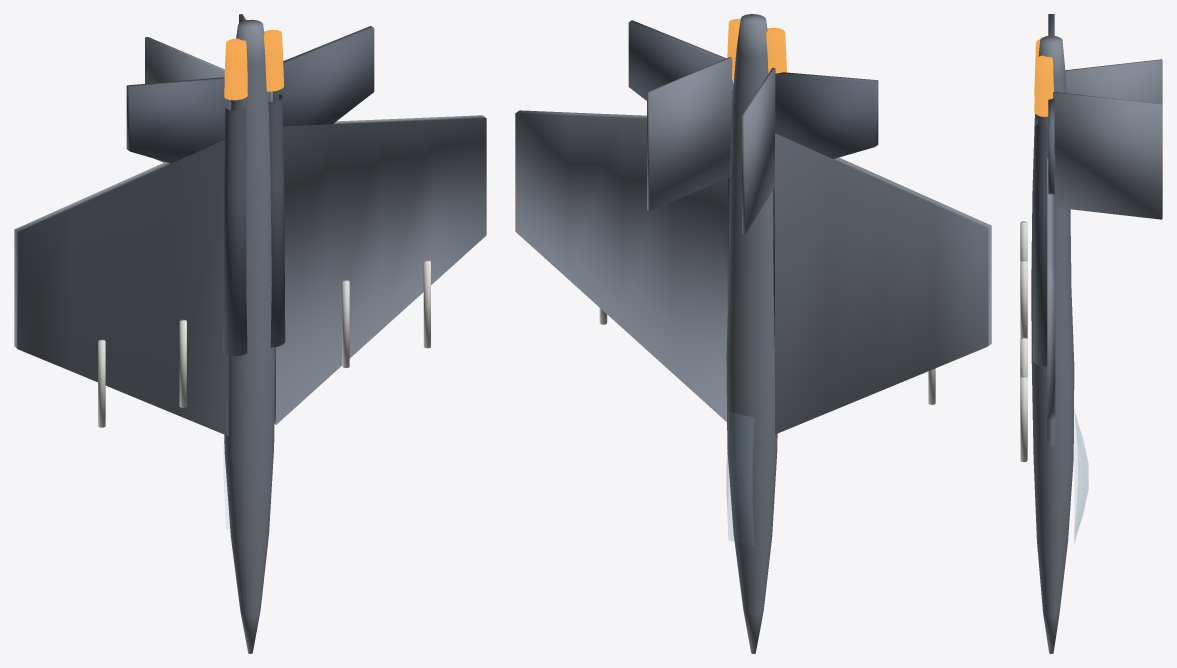
The model's file is fighter.glb.
The picture shows the model from 3 angles, left to right: view 1: azimuth 30°, elevation 25°; view 2: azimuth 150°, elevation 25°; view 3: azimuth 270°, elevation 25°; orthographic projection. The views are drawn at different scales.
Visible parts, largest first — view 1: Wings, Fuselage, HStab, Intakes, Missiles, Nozzles, VTail; view 2: Wings, Fuselage, VTail, HStab, Canopy, Nozzles; view 3: VTail, Fuselage, Intakes, Wings, Missiles, Canopy, Nozzles, HStab.
Part boxes in pixels (x1,y1,x2,y2): Wings: (14,115,486,436); Fuselage: (224,19,275,653); HStab: (126,26,374,163); Intakes: (223,94,285,356); Missiles: (98,260,430,427); Nozzles: (224,29,283,100); VTail: (145,14,272,162); Wings: (515,110,991,434); Fuselage: (726,14,777,653); VTail: (647,57,775,233); HStab: (628,20,878,158); Canopy: (726,412,753,545); Nozzles: (727,19,786,80); VTail: (1053,59,1162,219); Fuselage: (1031,35,1074,653); Intakes: (1033,119,1048,366); Wings: (1047,156,1055,446); Missiles: (1020,221,1027,462); Canopy: (1074,410,1088,542); Nozzles: (1034,39,1053,116); HStab: (1048,14,1054,194).
Bounding box in the file's own units: 9.2 × 11.8 × 2.49.
